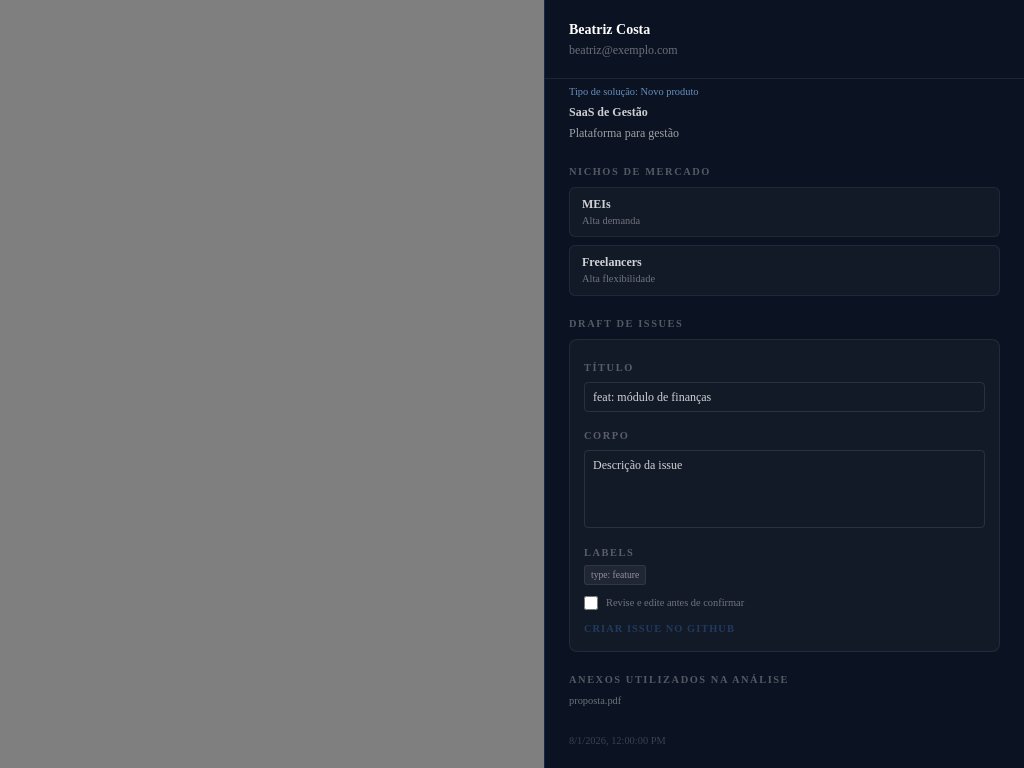
Test case: IssueDraftEditor — via ContactDrawer com análise concluída › botão 'Criar issue' habilitado após marcar checkbox
(page scrolled)
Click the checkbox. click: click(591, 603)
box: [584,596,598,610]
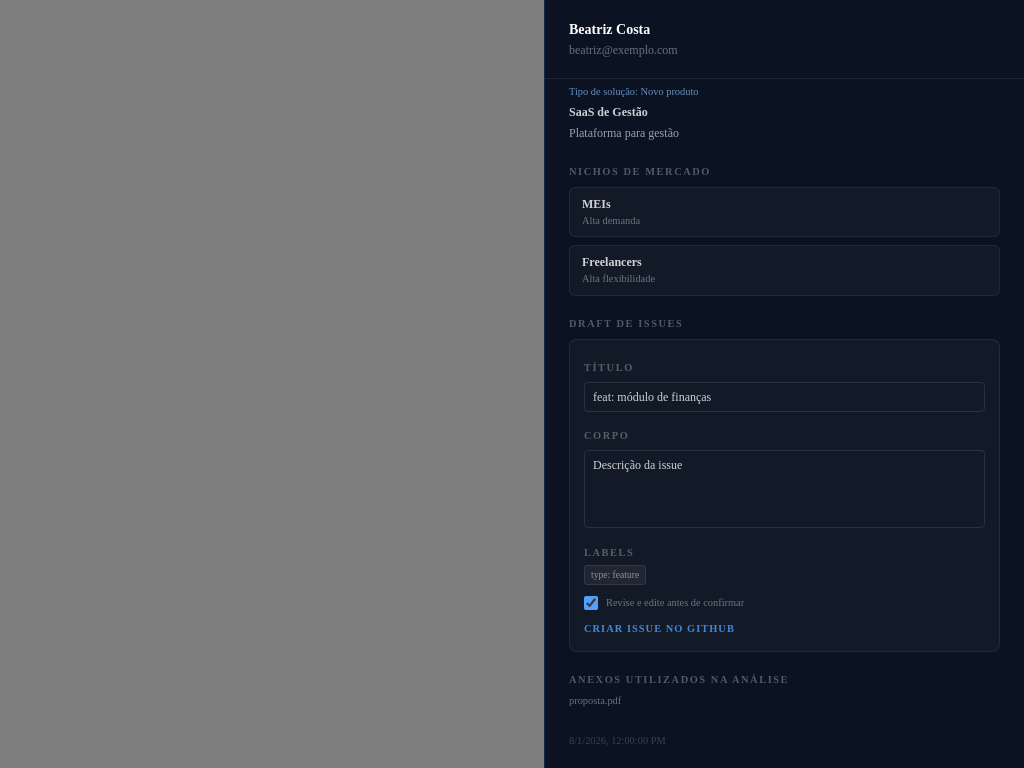
Expected: the button "Criar issue no GitHub" is enabled, [584,621,735,636]
